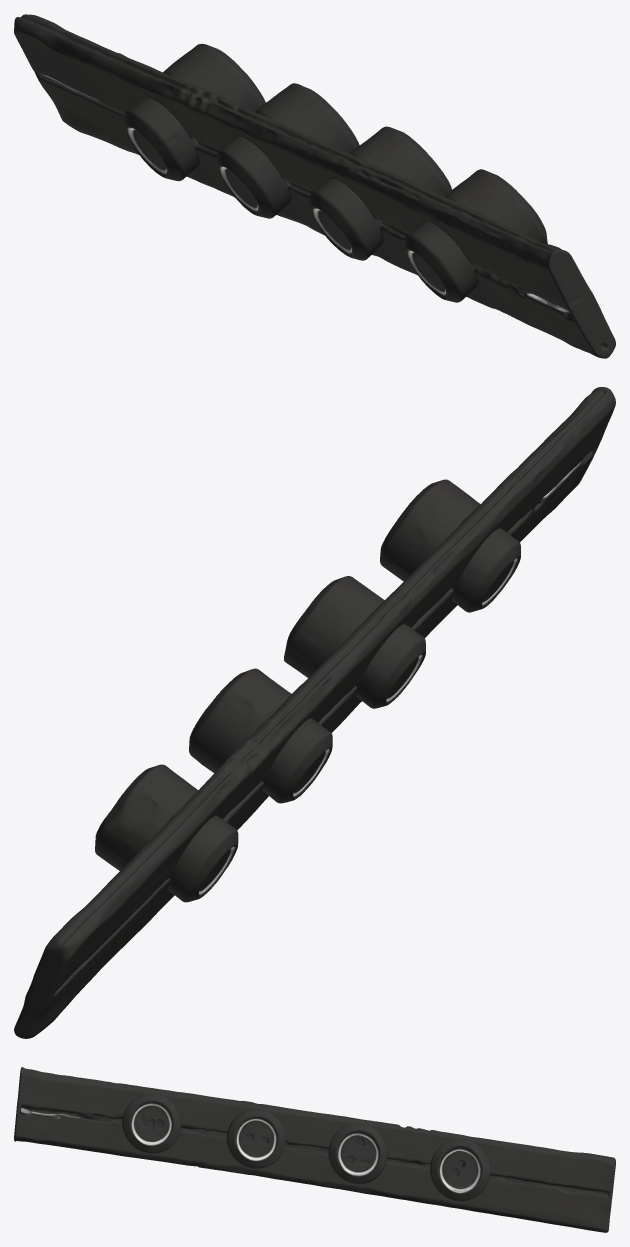
3 views of the same model, one above another, from view 1: azimuth 30°, elevation 25°; view 2: azimuth 150°, elevation 25°; view 3: azimuth 270°, elevation 25° (orthographic). The views are drawn at different scales.
Parts seen in each view (by area): view 1: tripo_node_d75a7110-b477-4854-8d04-15930c2e2a9f; view 2: tripo_node_d75a7110-b477-4854-8d04-15930c2e2a9f; view 3: tripo_node_d75a7110-b477-4854-8d04-15930c2e2a9f.
Part boxes in pixels (x1,y1,x2,y2): tripo_node_d75a7110-b477-4854-8d04-15930c2e2a9f: (14, 14, 615, 358); tripo_node_d75a7110-b477-4854-8d04-15930c2e2a9f: (14, 387, 615, 1038); tripo_node_d75a7110-b477-4854-8d04-15930c2e2a9f: (14, 1067, 615, 1232).
Size of the model in its own units: 0.00978 by 0.02 by 0.0723.
Materials: 1 (1 with a texture image).
